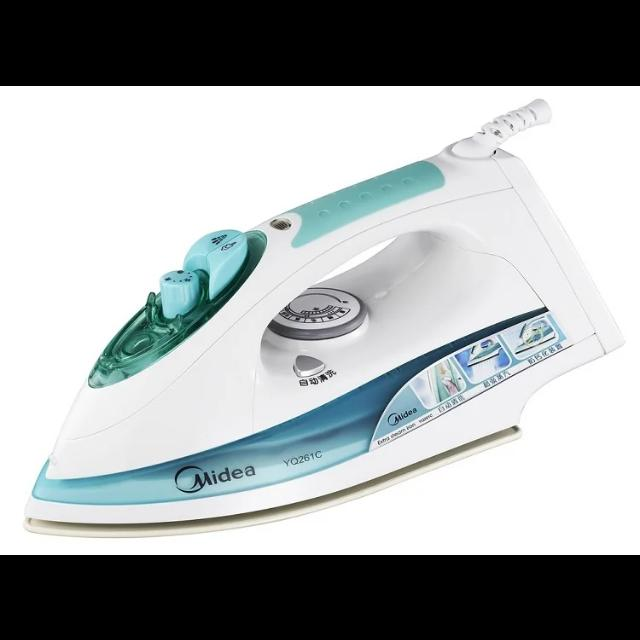Clothes-Iron: (17, 142, 638, 540)
